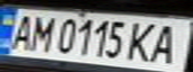0: (51, 16, 78, 55)
1: (90, 17, 112, 57), (72, 16, 93, 56)
5: (106, 18, 130, 61)
A: (145, 20, 187, 65), (3, 11, 39, 51)
K: (124, 19, 163, 63)
M: (24, 12, 57, 53)
